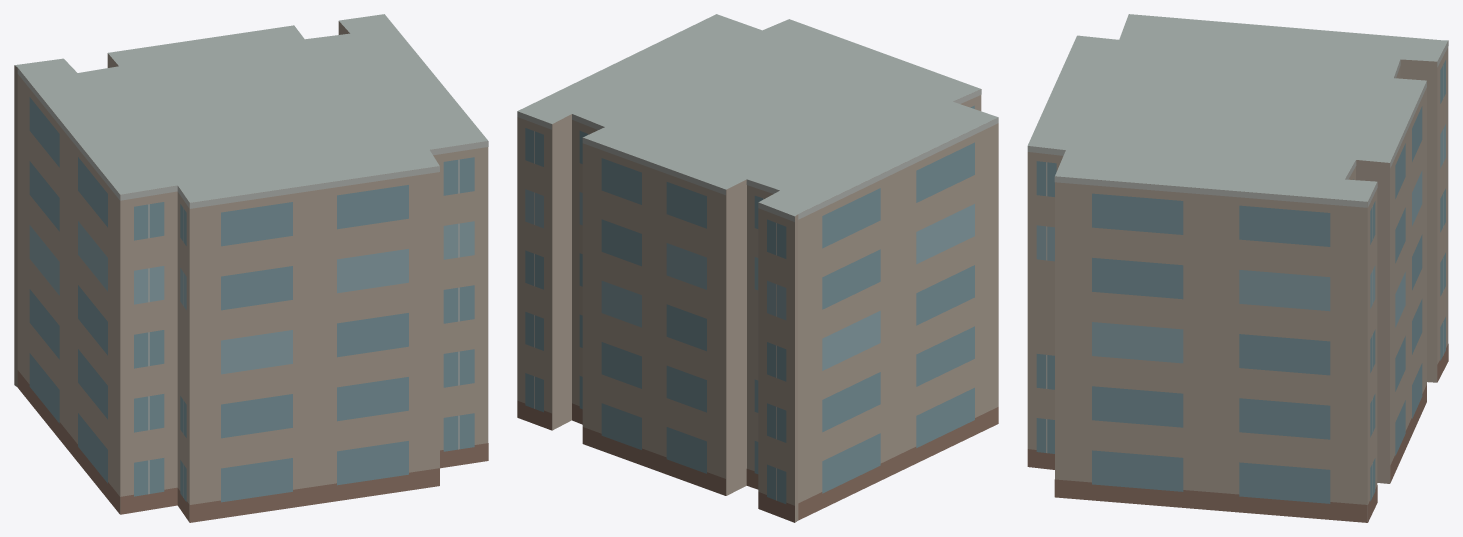
File: survey-upis-32616145.glb
3 views of the same model, side by side, from view 1: azimuth 30°, elevation 25°; view 2: azimuth 150°, elevation 25°; view 3: azimuth 270°, elevation 25° (orthographic). The views are drawn at different scales.
Visible parts, largest first — view 1: survey-upis-32616145.tmp; view 2: survey-upis-32616145.tmp; view 3: survey-upis-32616145.tmp.
Boxes of the visible parts, x1=… form: survey-upis-32616145.tmp: x1=14, y1=14, x2=488, y2=522; survey-upis-32616145.tmp: x1=517, y1=14, x2=998, y2=522; survey-upis-32616145.tmp: x1=1027, y1=14, x2=1448, y2=522.
Size of the model in its own units: 16.32 by 13 by 15.46.
